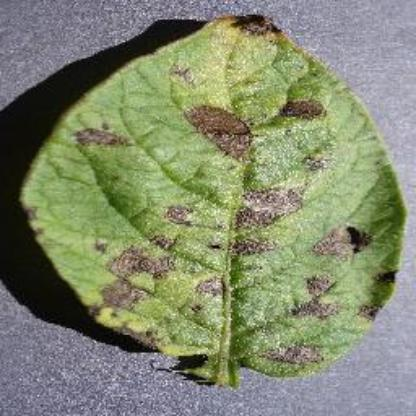Early-Blight: (14, 0, 415, 394)
